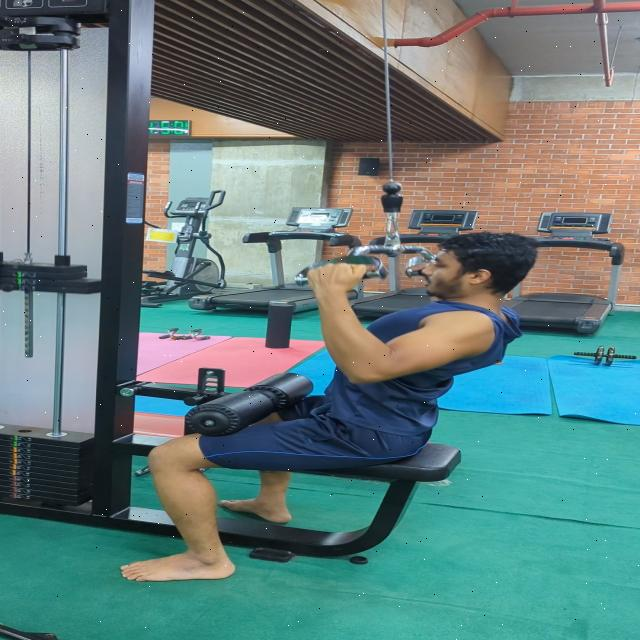Normal_LatPulldown: (104, 218, 560, 592)
